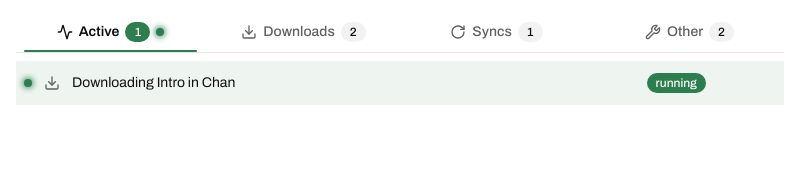
Test: TasksView › lists download and thumbnail tasks under Downloads, and no sync or cleanup tasks
Click the tab "Downloads 2": (304, 32) x1=209 y1=12 x2=398 y2=52
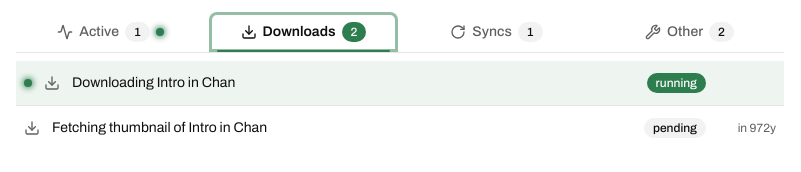
Expected: the text "Downloading Intro in Chan" is shown, x1=72 y1=75 x2=235 y2=90
Now the text "Fetching thumbnail of Intro in Chan" is shown, box x1=52 y1=120 x2=267 y2=135
